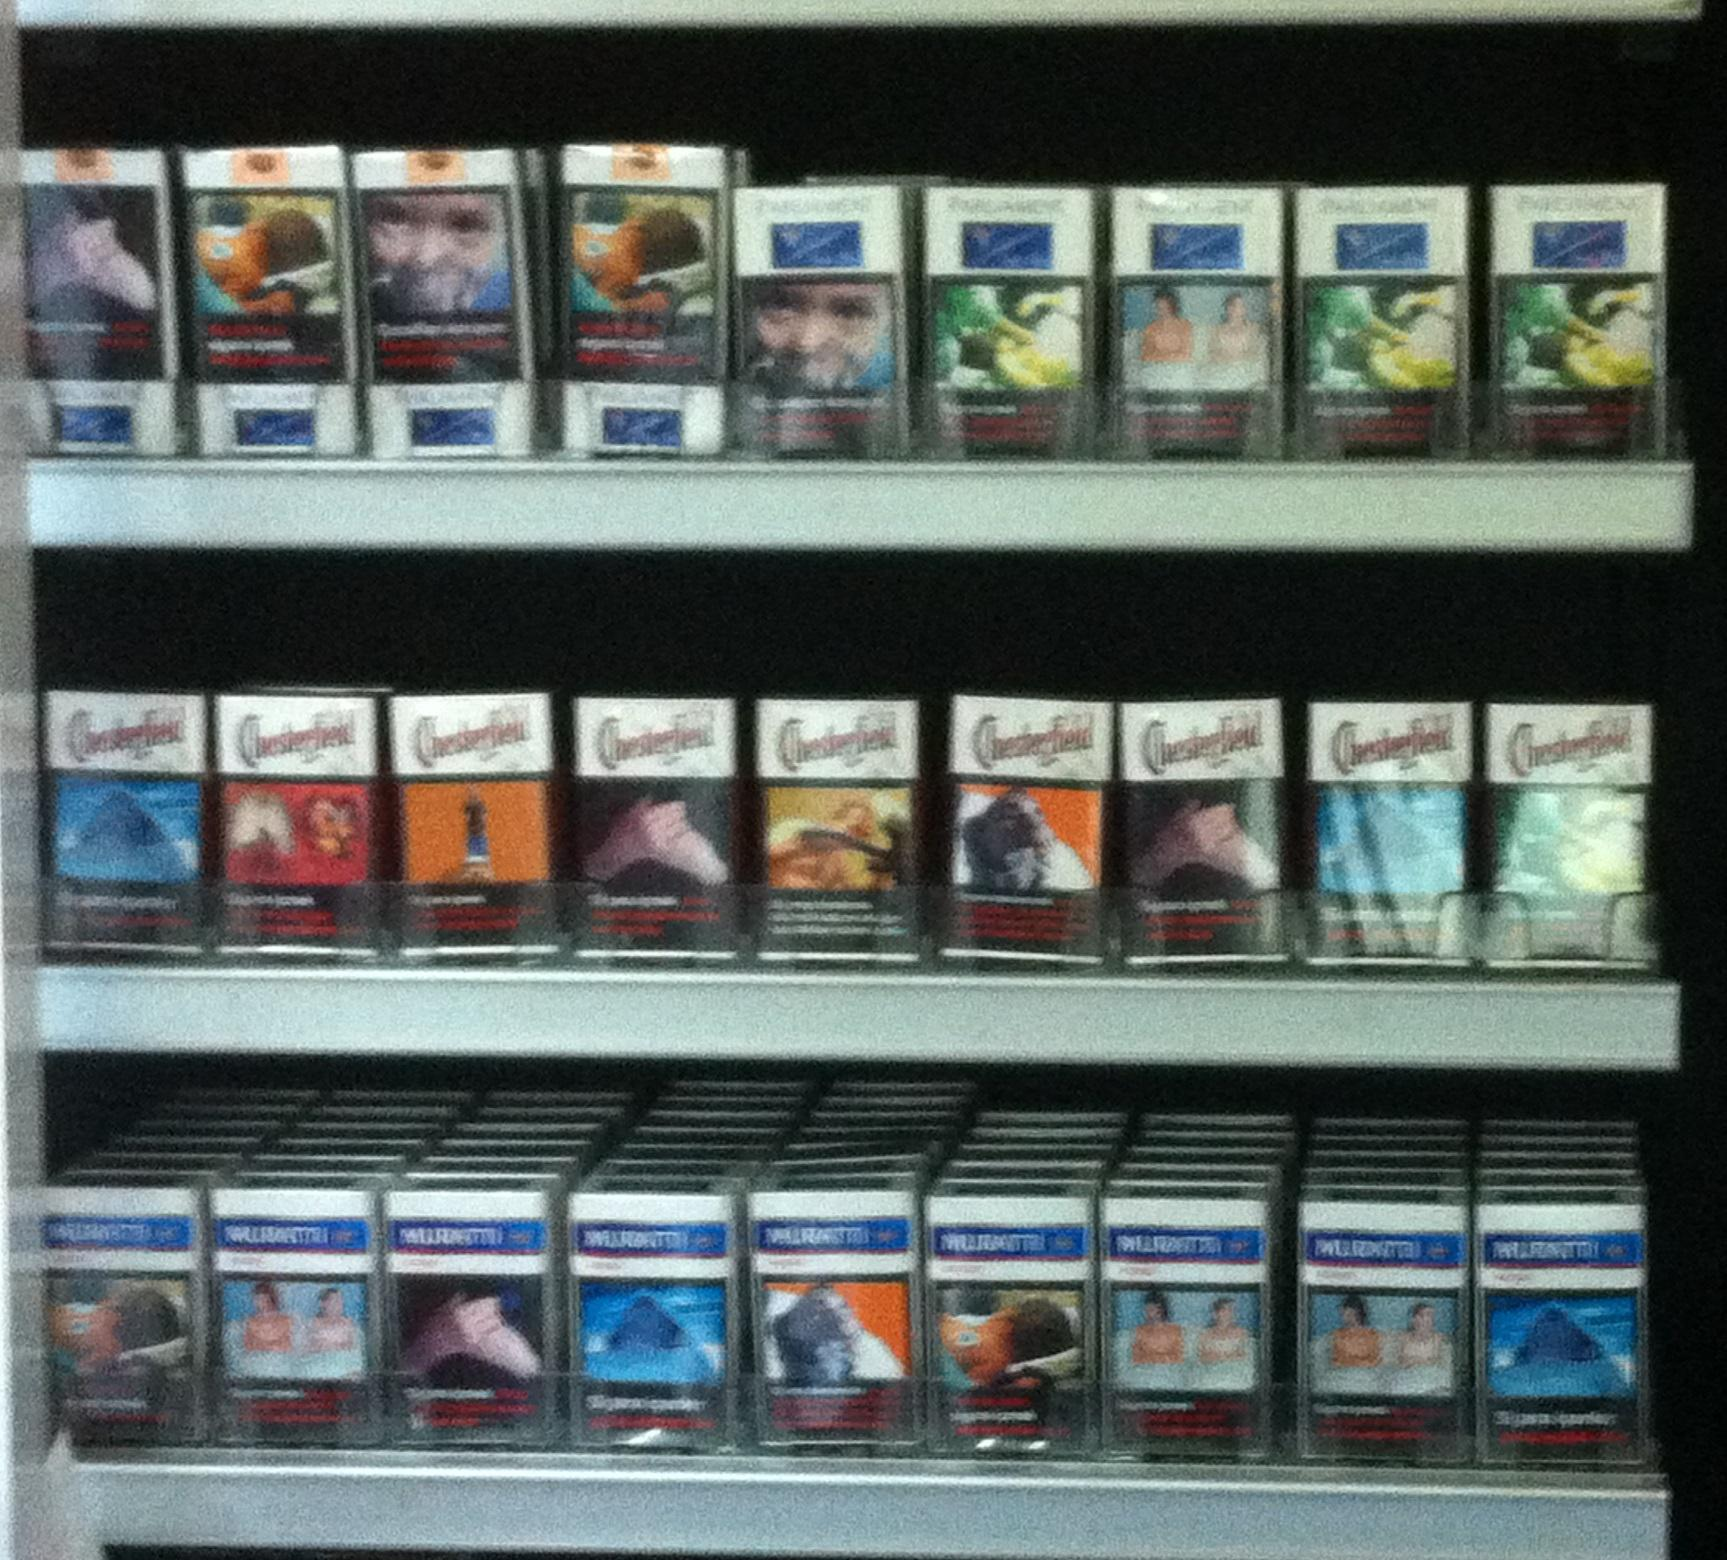product: (361, 129, 537, 469), (554, 125, 730, 465), (913, 165, 1101, 469), (17, 137, 181, 477), (1097, 173, 1285, 469), (185, 141, 361, 457), (1480, 165, 1668, 460), (1294, 178, 1480, 472), (745, 1176, 937, 1458), (1085, 1185, 1277, 1465), (1101, 694, 1294, 973), (1473, 681, 1665, 961), (193, 1173, 385, 1453), (197, 689, 390, 969), (33, 1181, 226, 1461), (33, 681, 226, 961), (373, 681, 566, 961), (545, 1181, 737, 1461), (561, 677, 754, 957), (733, 689, 925, 969), (921, 689, 1113, 969), (1270, 1176, 1461, 1458), (1458, 1188, 1649, 1470), (366, 1176, 557, 1458), (906, 1176, 1097, 1458), (1289, 684, 1480, 964), (725, 168, 906, 460)
